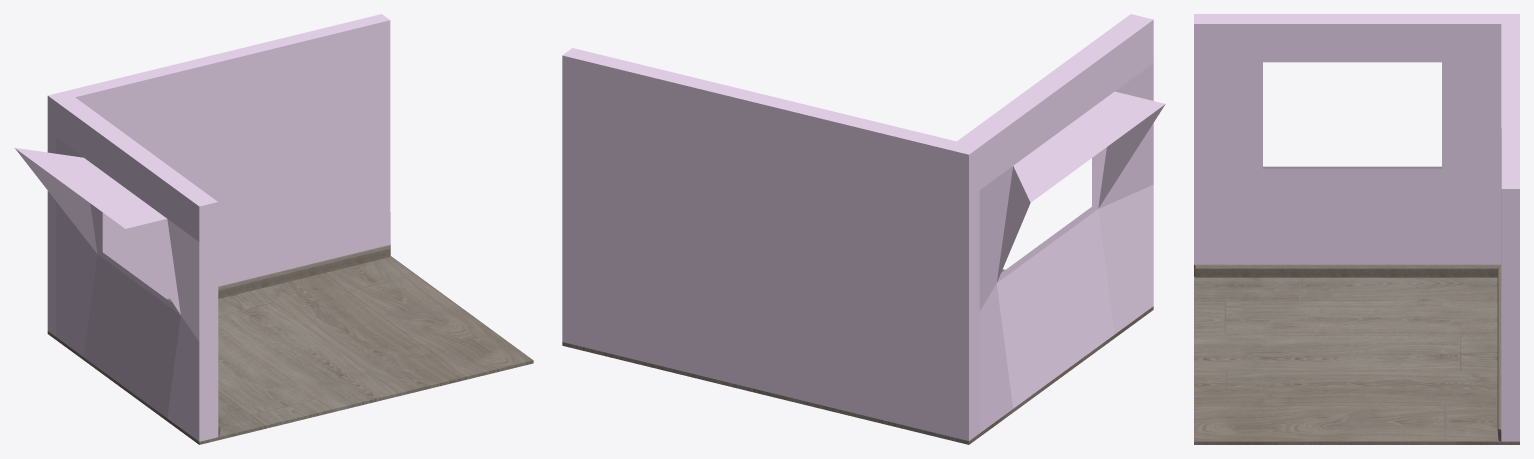
The model's file is space.fbx.
3 renders of one model, left to right at view 1: azimuth 30°, elevation 25°; view 2: azimuth 150°, elevation 25°; view 3: azimuth 270°, elevation 25°, orthographic. The views are drawn at different scales.
Parts seen in each view (by area): view 1: space; view 2: space; view 3: space.
Part boxes in pixels (x1,y1,x2,y2): space: (14, 14, 533, 444); space: (562, 14, 1165, 444); space: (1194, 14, 1519, 444).
Bounding box in the file's own units: 356 × 216 × 249.
Materials: 2 (1 with a texture image).
